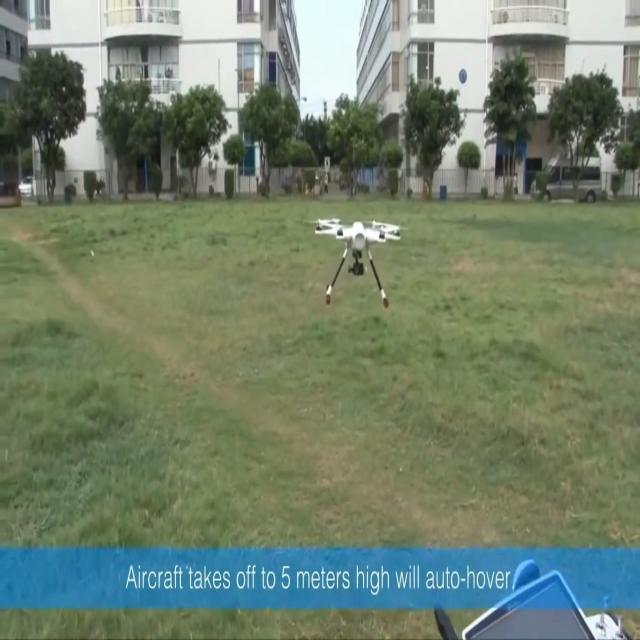drone: (309, 216, 403, 310)
